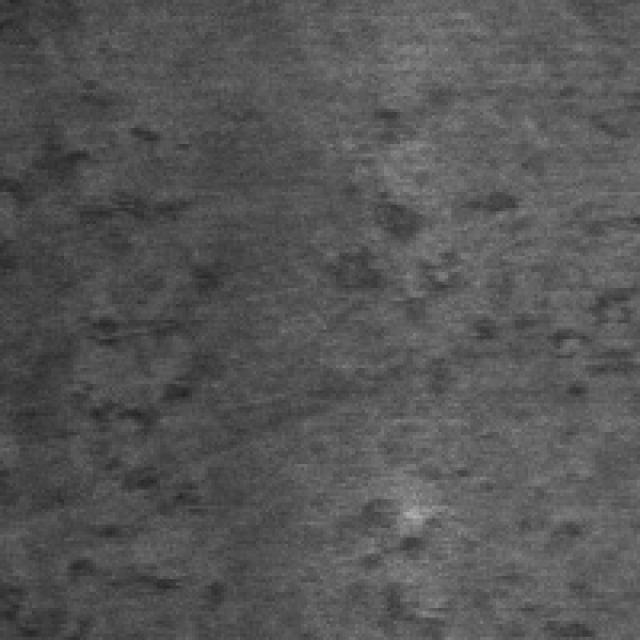rolled-in_scale: (0, 115, 214, 636), (320, 96, 528, 346), (317, 340, 496, 630)
